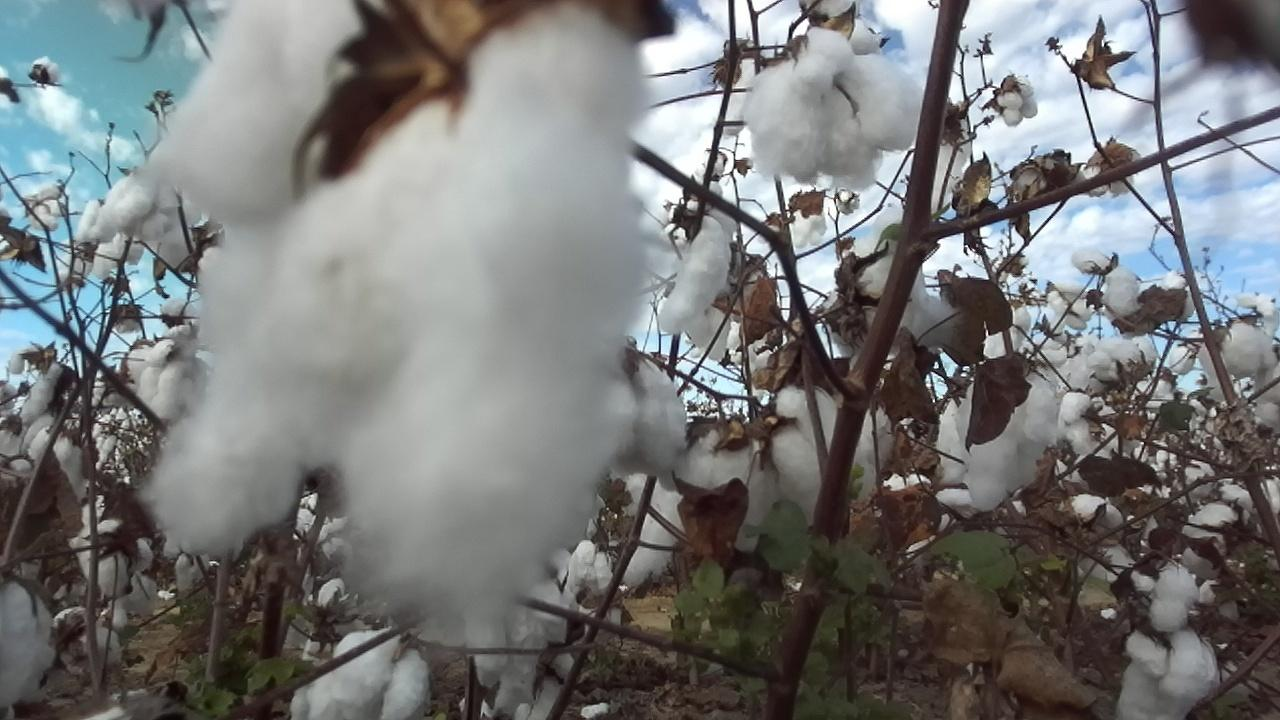cotton_ready: (131, 0, 655, 634), (741, 29, 922, 194), (678, 382, 840, 558), (960, 364, 1065, 513), (485, 577, 580, 720), (292, 627, 435, 720), (658, 204, 740, 366), (930, 392, 1030, 522), (604, 345, 686, 495), (825, 237, 924, 355), (107, 174, 207, 269), (1117, 630, 1218, 720), (0, 577, 60, 703), (625, 470, 688, 590), (125, 340, 212, 418), (1199, 322, 1277, 406), (74, 517, 153, 595), (23, 417, 92, 502), (1068, 245, 1142, 324), (884, 470, 950, 555), (1065, 337, 1159, 391), (1072, 540, 1133, 623), (1129, 560, 1197, 632), (853, 404, 899, 510), (802, 0, 885, 57), (930, 112, 974, 214), (1181, 504, 1240, 578), (1059, 390, 1118, 459), (1059, 494, 1130, 545), (981, 300, 1035, 359), (567, 535, 614, 602), (19, 360, 65, 427), (0, 415, 32, 478)
